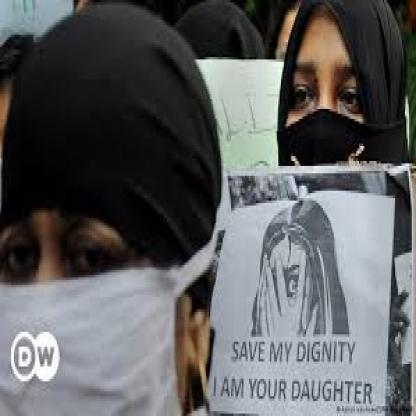BANNER: (206, 161, 410, 416)
